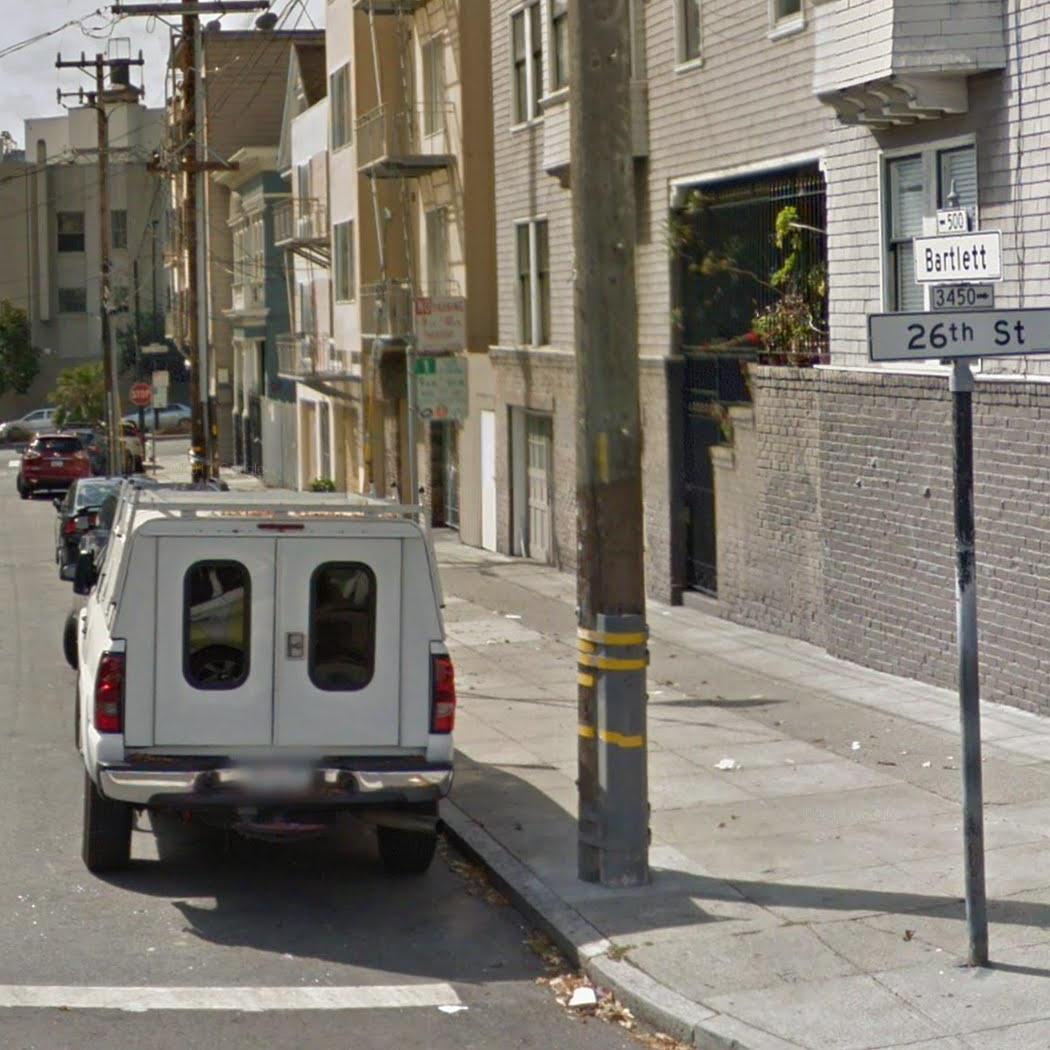1 Hour Parking: (412, 354, 472, 424)
No Parking: (411, 295, 469, 354)
